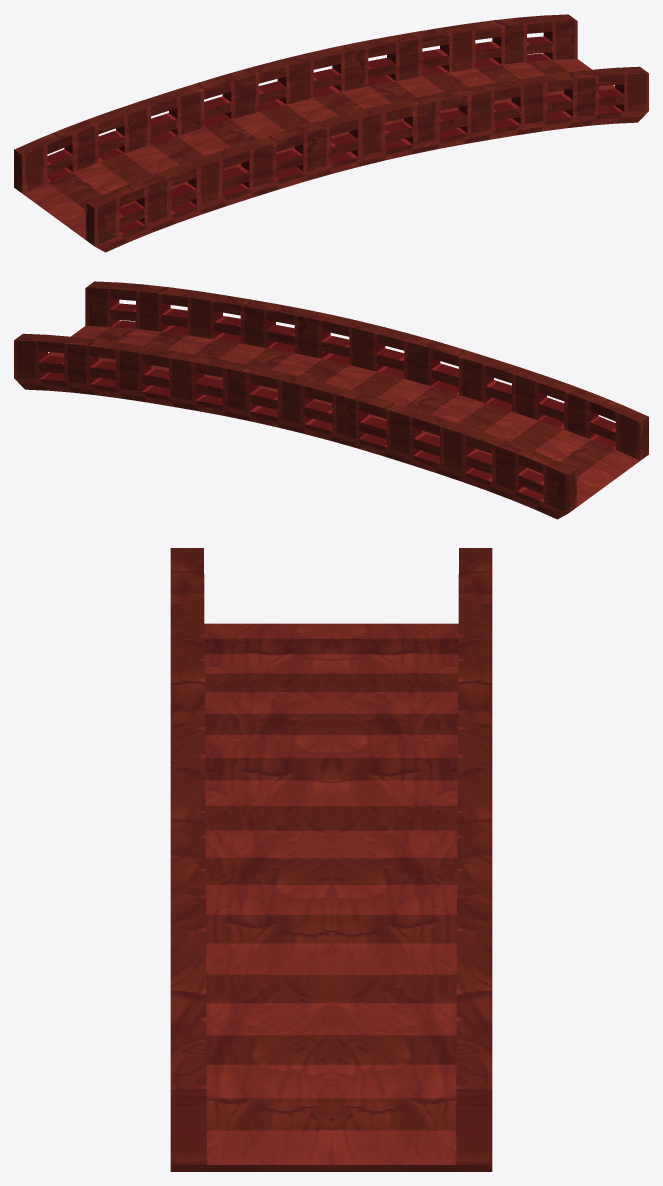
Rendered from Bridge1.fbx.
3 renders of one model, top to bottom at view 1: azimuth 30°, elevation 25°; view 2: azimuth 150°, elevation 25°; view 3: azimuth 270°, elevation 25°, orthographic. The views are drawn at different scales.
Visible parts, largest first — view 1: Object026; view 2: Object026; view 3: Object026.
Part boxes in pixels (box(x1,y1,x2,y2)): Object026: box(14, 14, 648, 252); Object026: box(14, 281, 648, 519); Object026: box(170, 548, 492, 1171).
Size of the model in its own units: 1531 by 385 by 189.
Materials: 1 (1 with a texture image).
